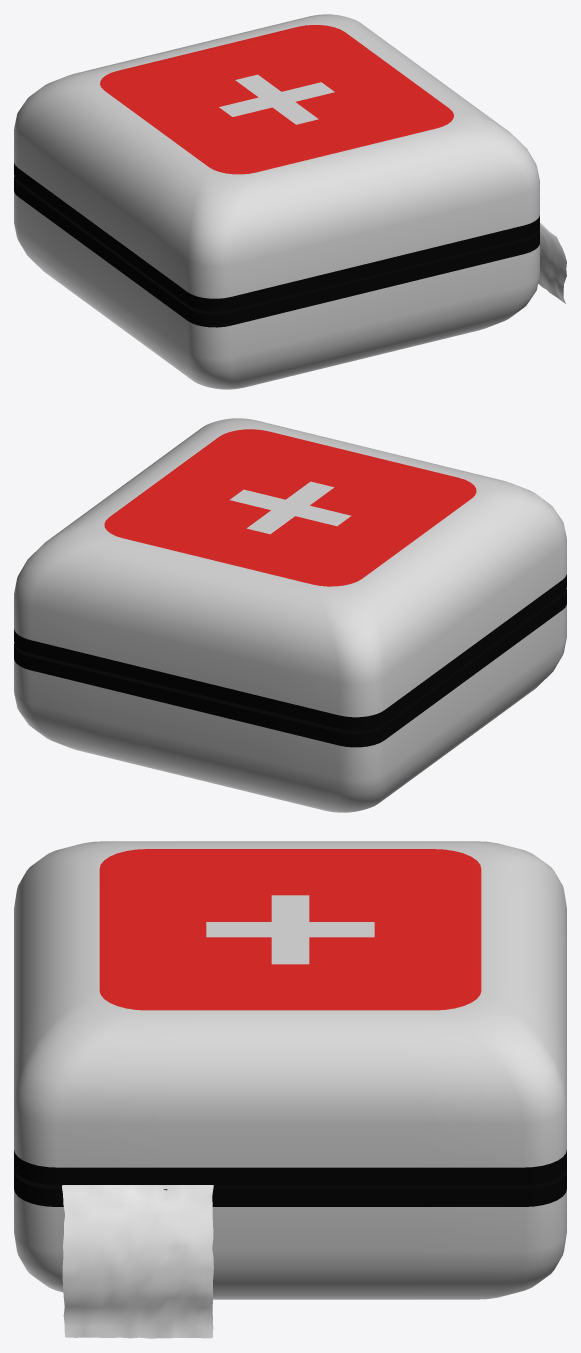
File: med kit.fbx
3 views of the same model, one above another, from view 1: azimuth 30°, elevation 25°; view 2: azimuth 150°, elevation 25°; view 3: azimuth 270°, elevation 25° (orthographic). The views are drawn at different scales.
Parts seen in each view (by area): view 1: Cube, Plane.001; view 2: Cube; view 3: Cube, Plane.001.
Boxes of the visible parts, bbox=[...] form: Cube: bbox=[14, 14, 539, 389]; Plane.001: bbox=[538, 223, 566, 303]; Cube: bbox=[14, 418, 566, 812]; Cube: bbox=[14, 841, 566, 1299]; Plane.001: bbox=[62, 1185, 213, 1338].
Size of the model in its own units: 45.27 by 23.15 by 41.23.
